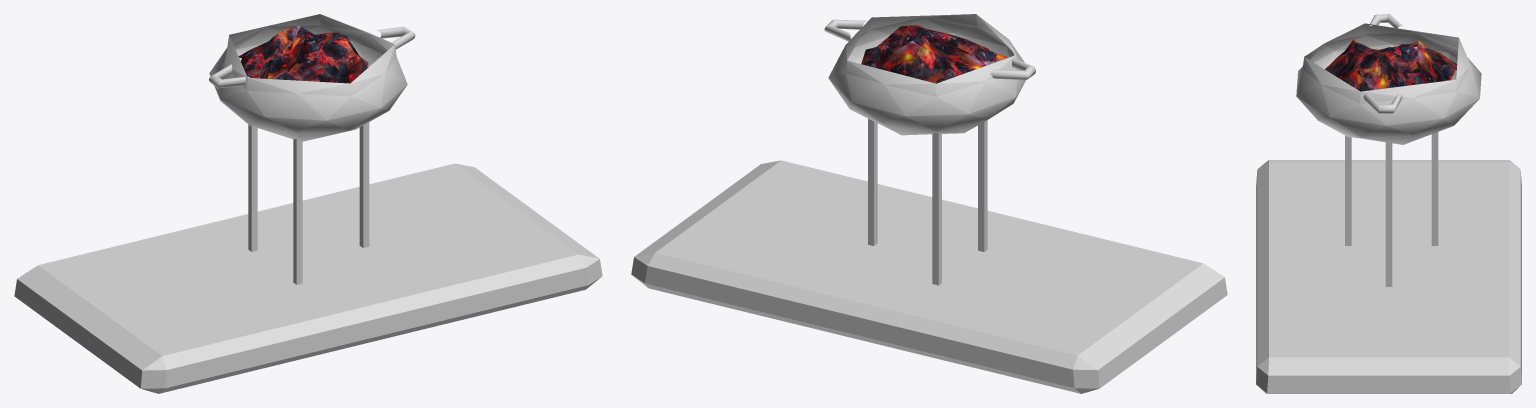
File: brazier.glb
The picture shows the model from 3 angles, left to right: view 1: azimuth 30°, elevation 25°; view 2: azimuth 150°, elevation 25°; view 3: azimuth 270°, elevation 25°; orthographic projection. The views are drawn at different scales.
Visible parts, largest first — view 1: base, brazier, embers; view 2: base, brazier, embers; view 3: base, brazier, embers.
Part boxes in pixels (x1,y1,x2,y2): base: (14,163,602,393); brazier: (209,14,415,284); embers: (238,25,368,83); base: (631,160,1227,393); brazier: (824,14,1035,285); embers: (861,24,1007,83); base: (1256,160,1521,393); brazier: (1296,14,1481,286); embers: (1325,40,1457,91).
Bounding box in the file's own units: 5.33 × 2.86 × 2.75.
2 materials, 1 textured.
